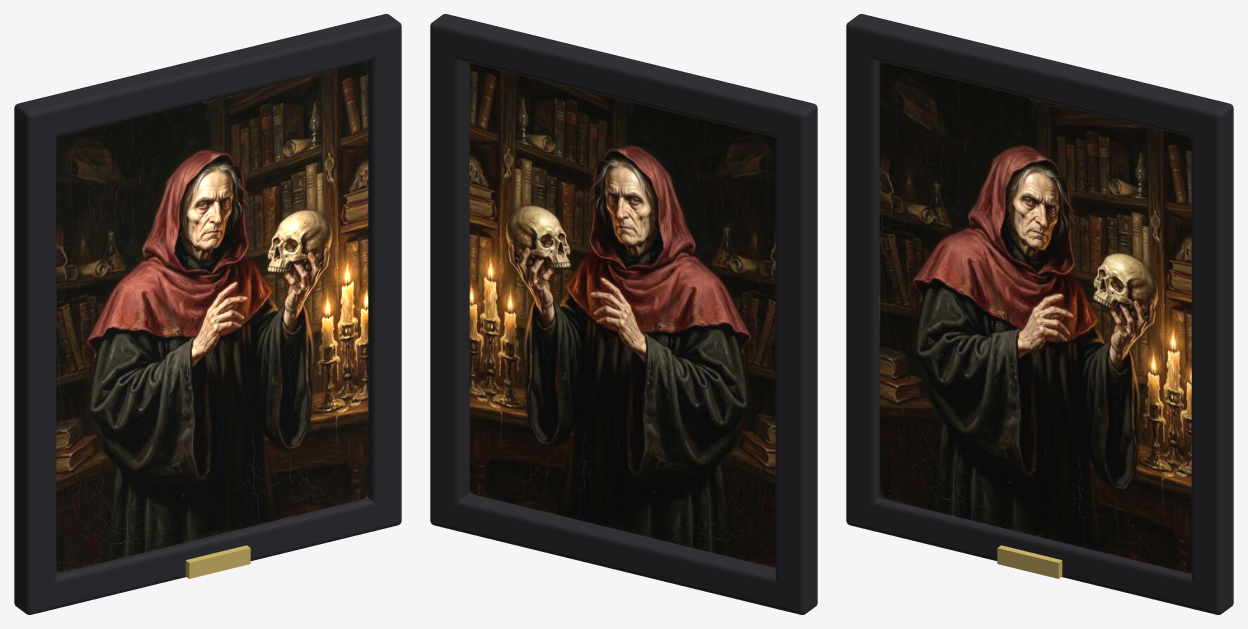
Rendered from art_professor_skull.glb.
3 views of the same model, side by side, from view 1: azimuth 30°, elevation 25°; view 2: azimuth 150°, elevation 25°; view 3: azimuth 330°, elevation 25° (orthographic).
Visible parts, largest first — view 1: GD_art_professor_skull__m0, GD_art_professor_skull__m1, GD_art_professor_skull__m2; view 2: GD_art_professor_skull__m0, GD_art_professor_skull__m1; view 3: GD_art_professor_skull__m0, GD_art_professor_skull__m1, GD_art_professor_skull__m2.
Part boxes in pixels (left/top/right/bottom): GD_art_professor_skull__m0: left=56, top=61, right=368, bottom=573; GD_art_professor_skull__m1: left=14, top=14, right=401, bottom=614; GD_art_professor_skull__m2: left=185, top=545, right=250, bottom=578; GD_art_professor_skull__m0: left=469, top=63, right=775, bottom=567; GD_art_professor_skull__m1: left=430, top=14, right=817, bottom=614; GD_art_professor_skull__m0: left=879, top=61, right=1191, bottom=573; GD_art_professor_skull__m1: left=846, top=14, right=1233, bottom=614; GD_art_professor_skull__m2: left=997, top=545, right=1062, bottom=578.
Size of the model in its own units: 0.86 by 1.1 by 0.0775.
Materials: 3 (1 with a texture image).
